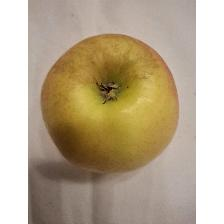Apfel: (40, 31, 182, 178)
